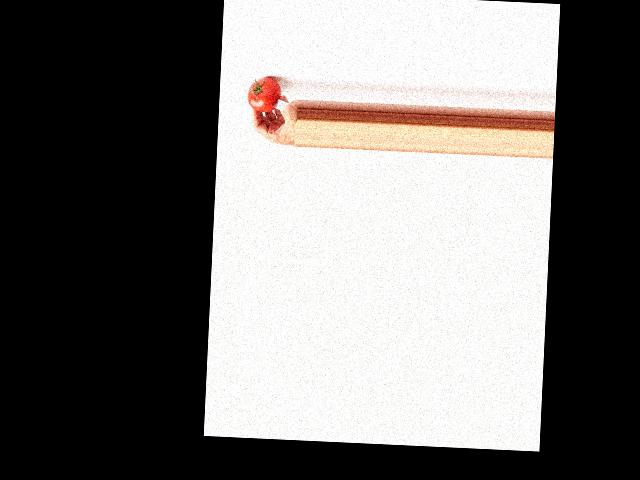tomato: (247, 76, 281, 113)
